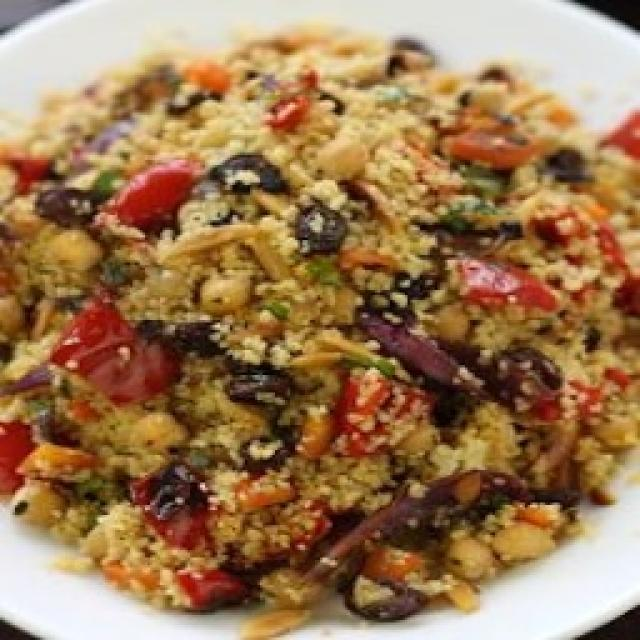Couscous: (0, 30, 640, 619)
